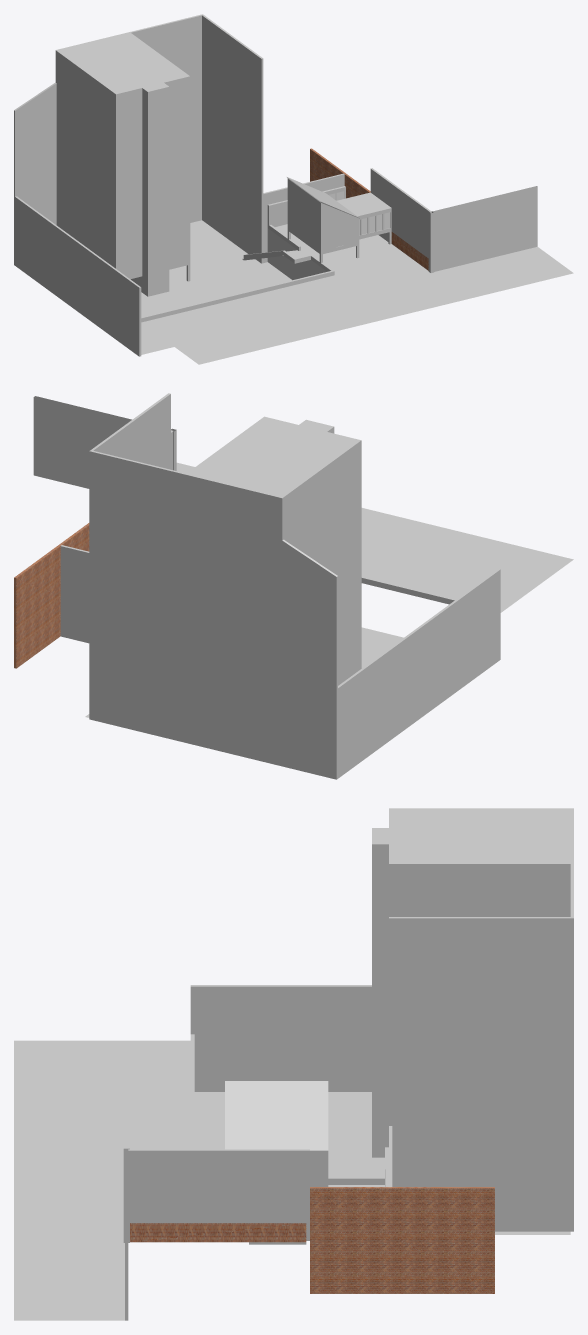
File: cu_engineering.fbx
3 renders of one model, top to bottom at view 1: azimuth 30°, elevation 25°; view 2: azimuth 150°, elevation 25°; view 3: azimuth 270°, elevation 25°, orthographic. The views are drawn at different scales.
Visible parts, largest first — view 1: Cube.032, Cube.030, Cube.037, Plane.011, Cube.054, Cube.036, Cube.038, Cube.033, Plane.004, Plane.009, Cube.010, Plane.010 (+15 smaller); view 2: Cube.032, Cube.033, Cube.037, Cube.038, Plane.011, Cube.054, Cube.017, Cube.030, Plane.004, Cube.021, Cube.039, Plane.009 (+2 smaller); view 3: Cube.030, Cube.017, Cube.032, Cube.037, Plane.011, Cube.031, Cube.010, Plane.004, Cube.036, Plane.009, Plane.015, Plane.013 (+3 smaller).
Boxes of the visible parts, box(x1,y1,x2,y2) form: Cube.032: box(55, 32, 190, 279); Cube.030: box(201, 14, 263, 263); Cube.037: box(15, 196, 141, 356); Plane.011: box(163, 291, 389, 364); Cube.054: box(432, 186, 537, 271); Cube.036: box(130, 74, 169, 296); Cube.038: box(14, 82, 56, 265); Cube.033: box(130, 14, 201, 222); Plane.004: box(141, 276, 353, 338); Plane.009: box(141, 262, 291, 354); Cube.010: box(287, 177, 359, 254); Plane.010: box(141, 220, 260, 292); Cube.032: box(185, 416, 361, 744); Cube.033: box(91, 450, 186, 742); Cube.037: box(338, 568, 500, 778); Cube.038: box(282, 539, 337, 779); Plane.011: box(361, 508, 573, 594); Cube.054: box(33, 396, 172, 488); Cube.017: box(14, 523, 89, 668); Cube.030: box(89, 393, 170, 719); Plane.004: box(361, 554, 525, 612); Cube.021: box(60, 545, 89, 643); Cube.039: box(185, 721, 282, 766); Plane.009: box(361, 627, 403, 668); Cube.030: box(389, 917, 573, 1231); Cube.017: box(310, 1187, 494, 1293); Cube.032: box(389, 808, 573, 916); Cube.037: box(190, 985, 371, 1091); Plane.011: box(14, 1040, 124, 1183); Cube.031: box(128, 1149, 309, 1223); Cube.010: box(225, 1081, 328, 1186); Plane.004: box(125, 1040, 190, 1149); Cube.036: box(372, 828, 425, 1157); Plane.009: box(194, 1092, 384, 1177); Plane.015: box(14, 1212, 56, 1320); Plane.013: box(82, 1212, 124, 1320).
Bounding box in the file's own units: 61421 × 31929 × 51659.
